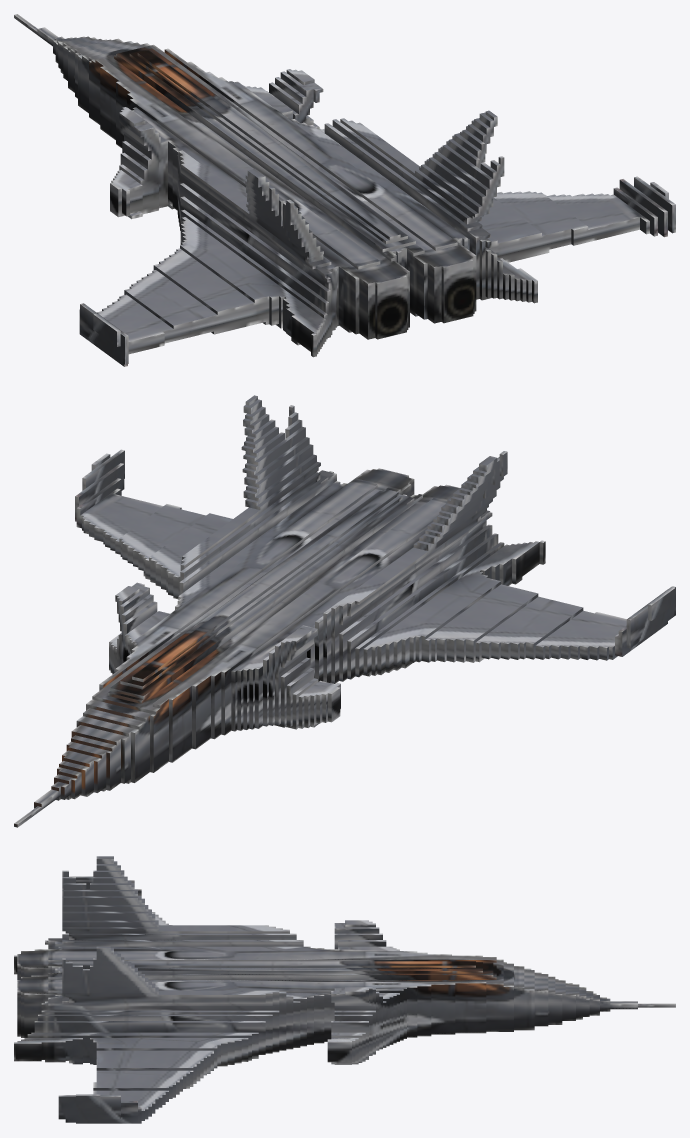
Rendered from voxel.glb.
The picture shows the model from 3 angles, top to bottom: view 1: azimuth 30°, elevation 25°; view 2: azimuth 150°, elevation 25°; view 3: azimuth 270°, elevation 25°; orthographic projection. The views are drawn at different scales.
Parts seen in each view (by area): view 1: voxel; view 2: voxel; view 3: voxel.
Part boxes in pixels (bbox=[...]): voxel: bbox=[14, 14, 675, 366]; voxel: bbox=[14, 395, 675, 827]; voxel: bbox=[14, 856, 675, 1123].
Size of the model in its own units: 4.7 by 1.33 by 6.
1 material, 1 textured.
